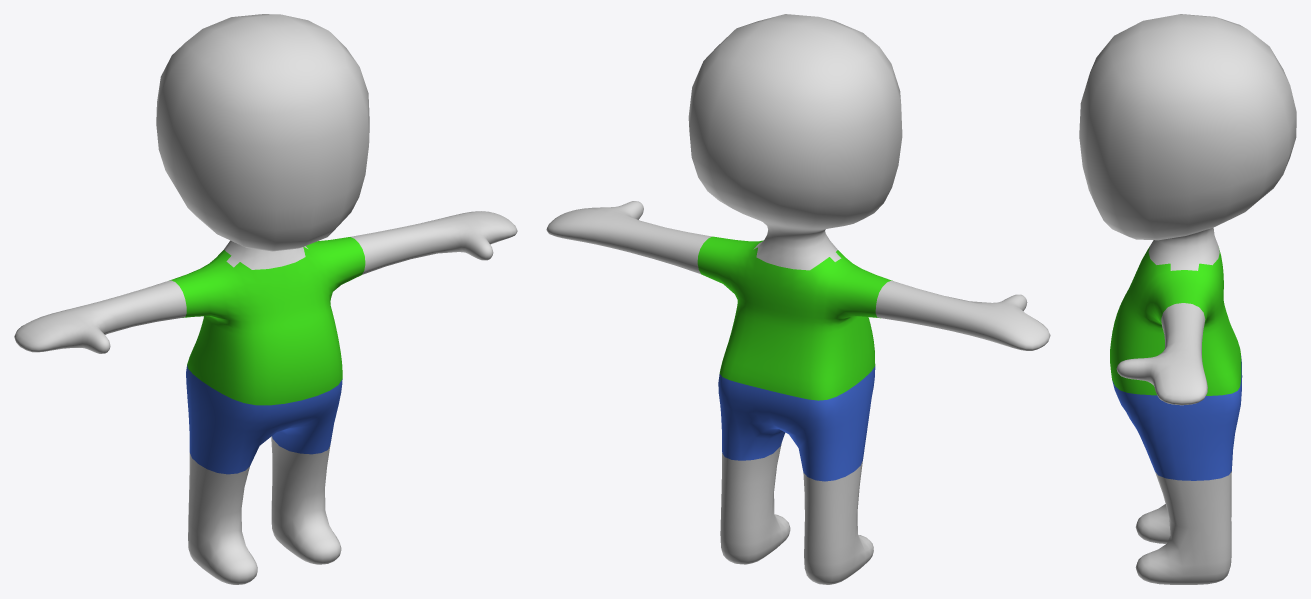
File: texturitled21.fbx
3 views of the same model, side by side, from view 1: azimuth 30°, elevation 25°; view 2: azimuth 150°, elevation 25°; view 3: azimuth 270°, elevation 25° (orthographic).
Visible parts, largest first — view 1: Cube; view 2: Cube; view 3: Cube.
Boxes of the visible parts, left/top/right/bottom form: Cube: left=14, top=14, right=517, bottom=584; Cube: left=546, top=14, right=1050, bottom=584; Cube: left=1079, top=14, right=1296, bottom=584.
Bounding box in the file's own units: 746 × 775 × 286.
